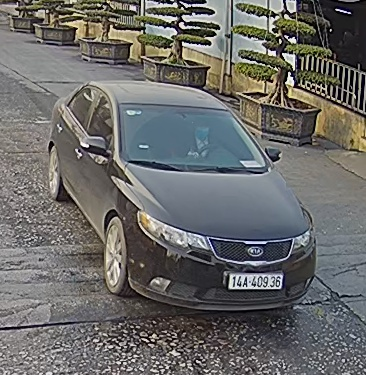vehicle plate: (223, 268, 285, 289)
